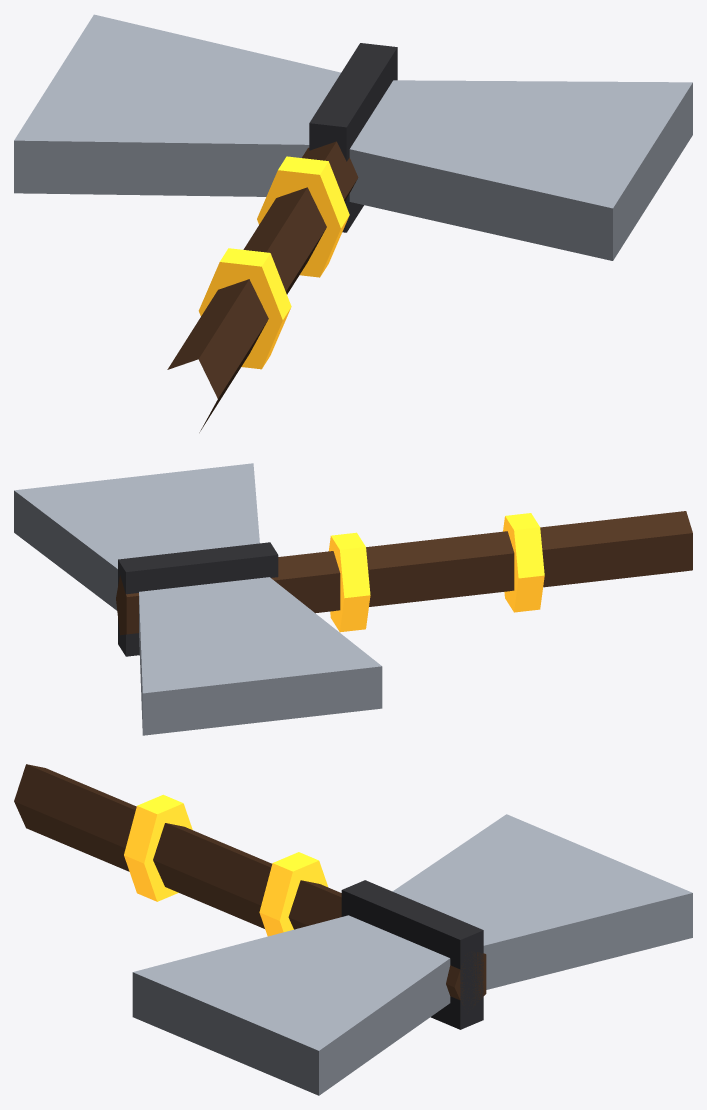
File: dwarven_greataxe.glb
3 renders of one model, top to bottom at view 1: azimuth 30°, elevation 25°; view 2: azimuth 150°, elevation 25°; view 3: azimuth 270°, elevation 25°, orthographic. The views are drawn at different scales.
Visible parts, largest first — view 1: dwarven_greataxe; view 2: dwarven_greataxe; view 3: dwarven_greataxe.
Part boxes in pixels (x1=…): dwarven_greataxe: x1=14, y1=14, x2=692, y2=432; dwarven_greataxe: x1=14, y1=463, x2=692, y2=735; dwarven_greataxe: x1=14, y1=764, x2=692, y2=1095.
Bounding box in the file's own units: 1.02 × 0.15 × 1.03.
